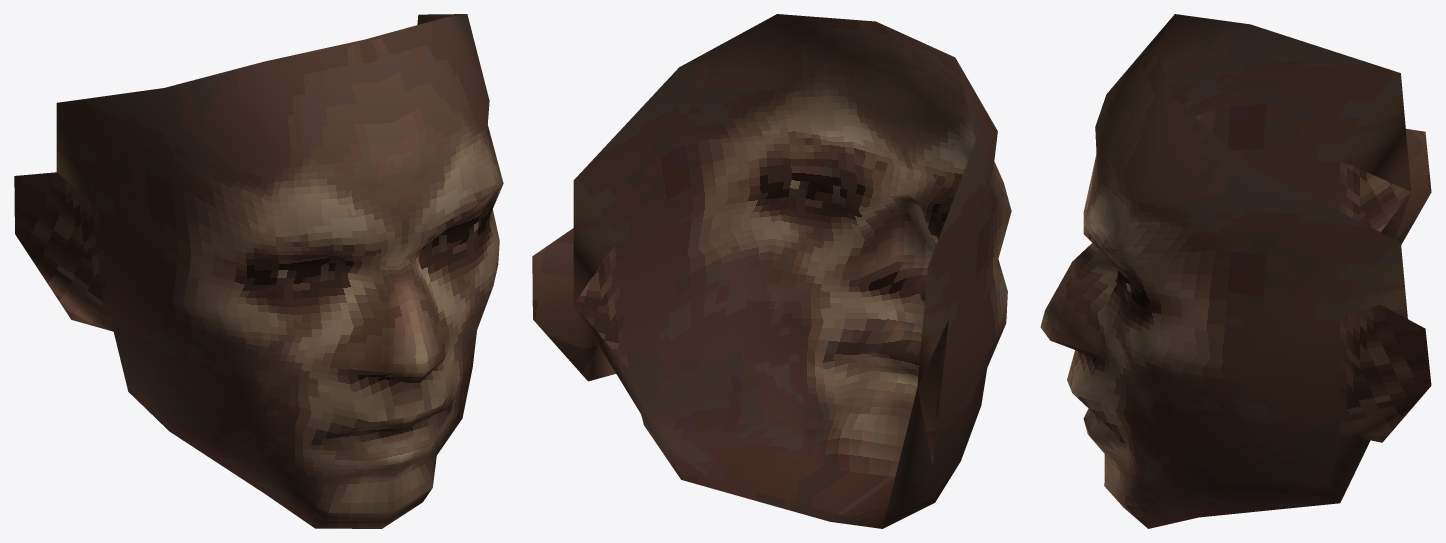
File: m_hair010.glb
3 views of the same model, side by side, from view 1: azimuth 30°, elevation 25°; view 2: azimuth 150°, elevation 25°; view 3: azimuth 270°, elevation 25° (orthographic). The views are drawn at different scales.
Size of the model in its own units: 17.18 by 18.64 by 14.42.
Materials: 1 (1 with a texture image).
